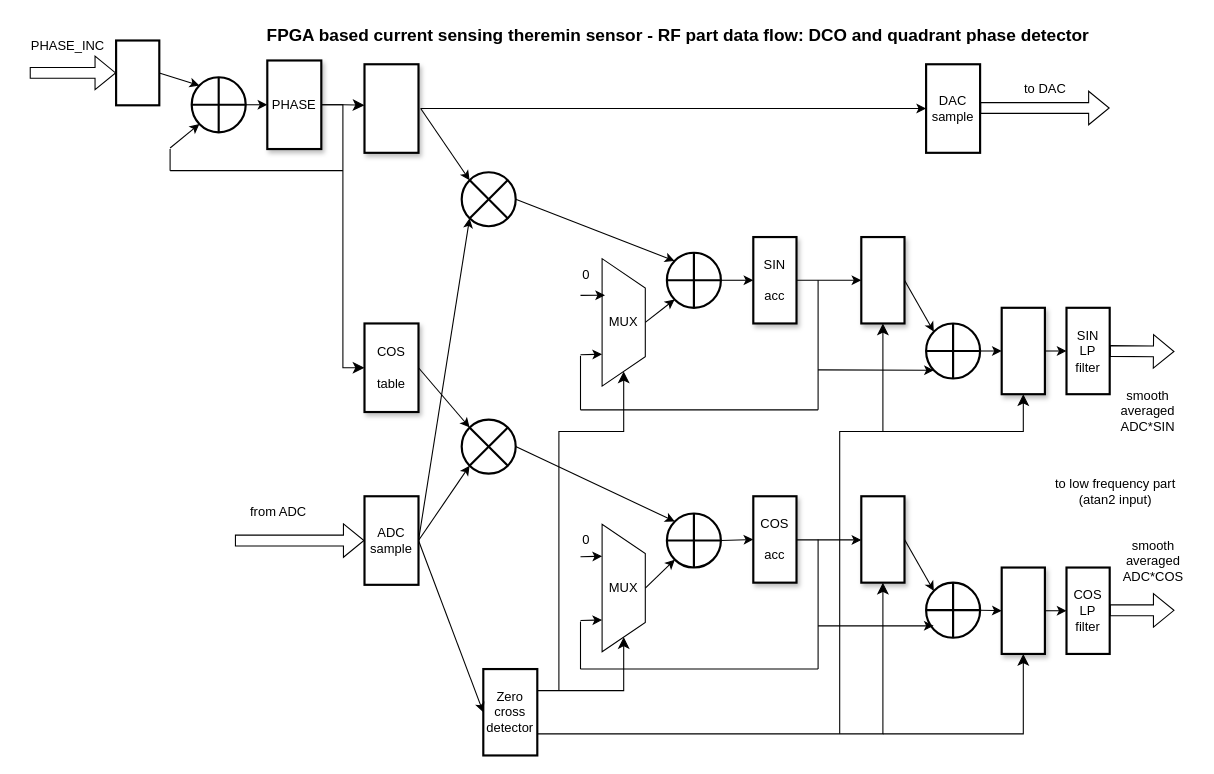
Some shapes in this 1214 by 774 pixel diagram are drawn without their labels. The shapes that lost their labels are listed below. From the top down, each one's centre as x and y in pixels, then its label:
At pixel 137 72: "LP filter".
At pixel 392 109: "SIN table".
At pixel 883 281: "SIN half period sum".
At pixel 1024 352: "SIN period sum".
At pixel 883 540: "COS half period sum".
At pixel 1024 612: "COS period sum".
